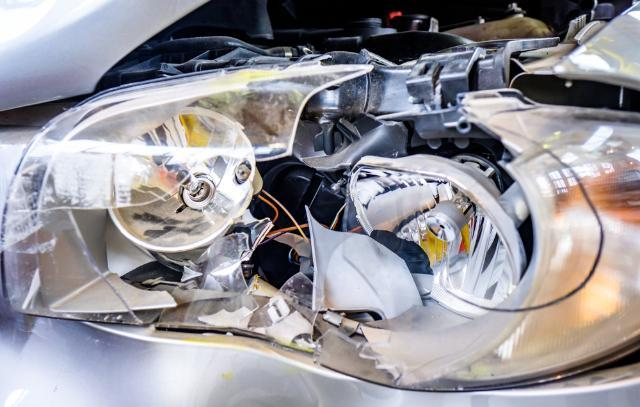lamp broken: (0, 63, 640, 391)
